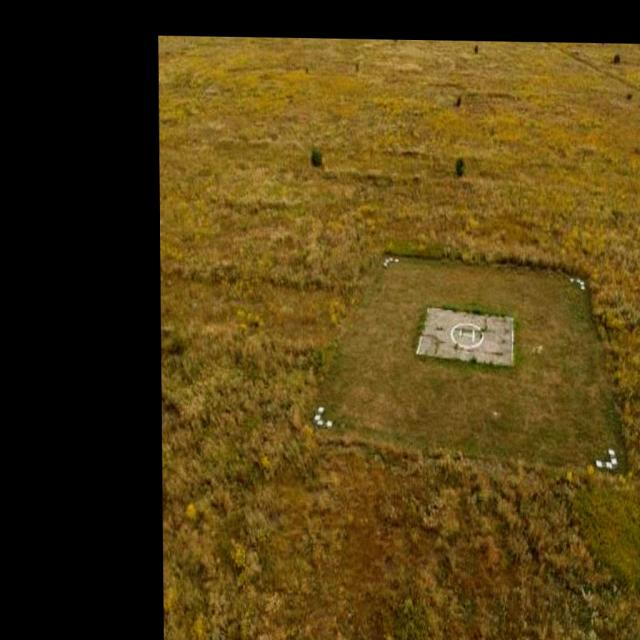helipad: (448, 320, 487, 350)
